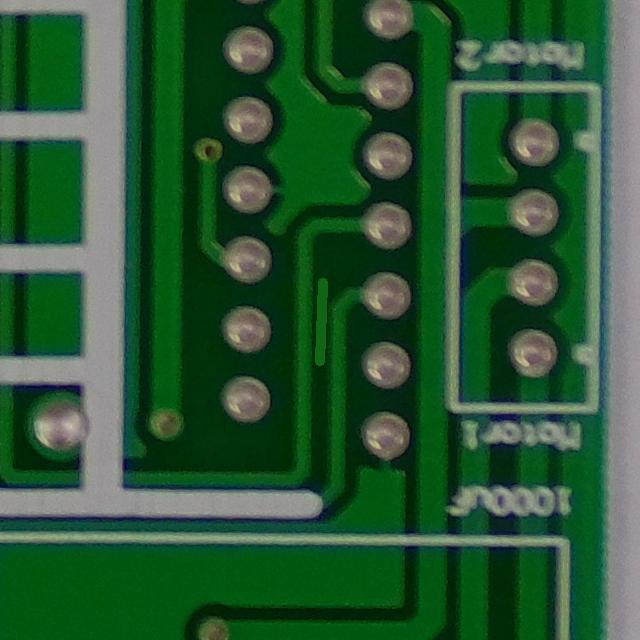spurious_copper: (301, 259, 340, 381)
